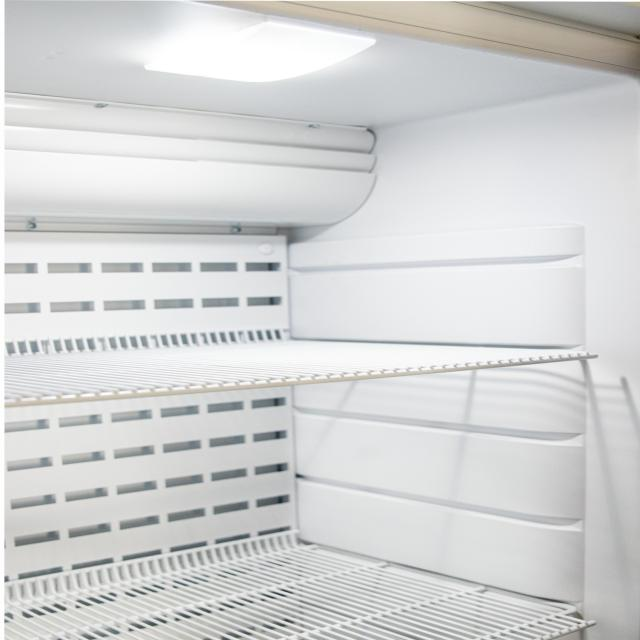fridge-space: (3, 508, 573, 636), (2, 302, 279, 378), (287, 290, 554, 360)
